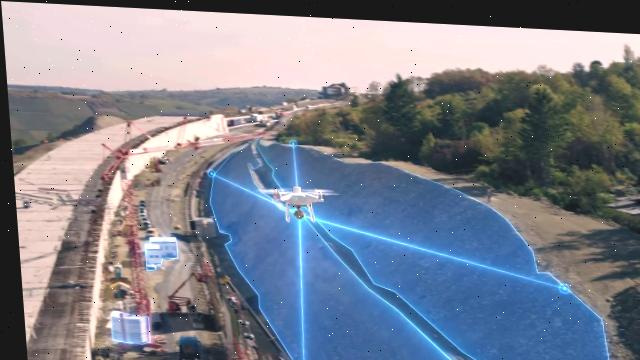drone: (252, 174, 340, 221)
